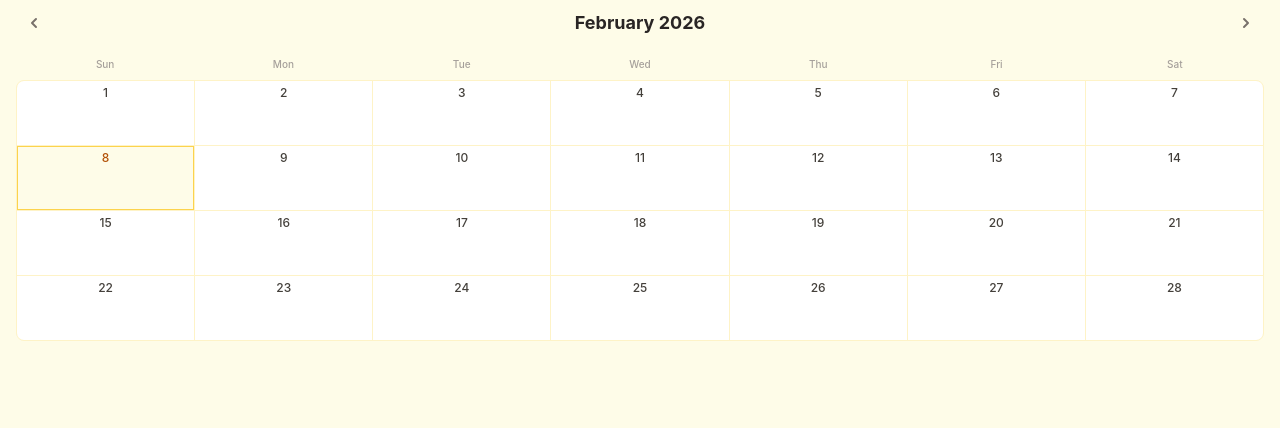
Test: calendar › selecting a day with no logs shows empty message
// Click on day 20 (no logs)
Click the button "20" at (996, 243), box [908,211,1085,275]
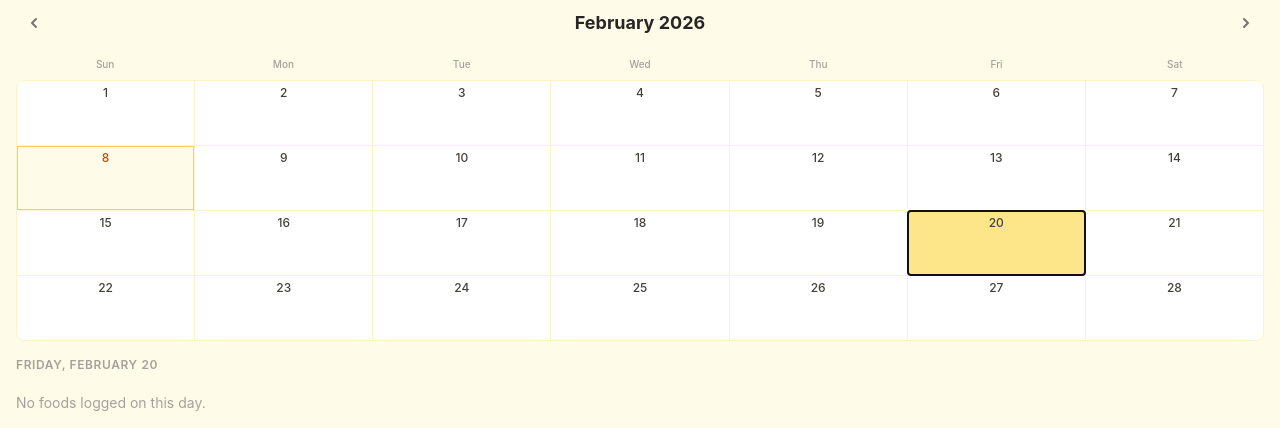
Result: the text "No foods logged on this day." is shown at [16,394,206,411]
